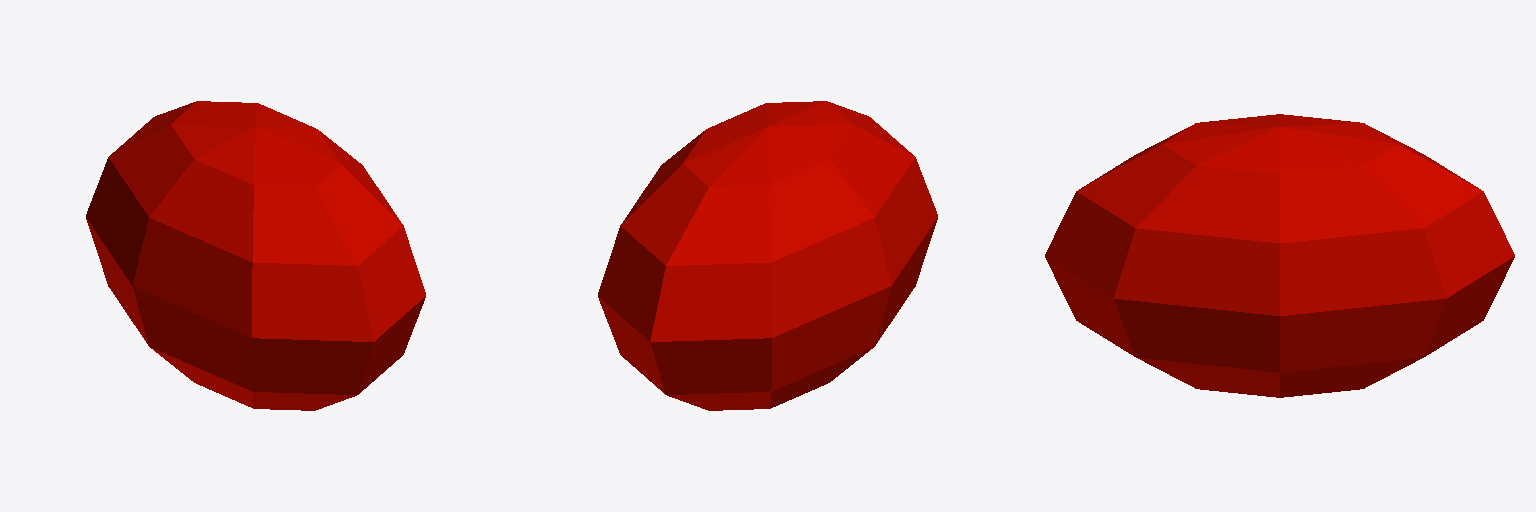
Rendered from option.obj.
3 renders of one model, left to right at view 1: azimuth 30°, elevation 25°; view 2: azimuth 150°, elevation 25°; view 3: azimuth 270°, elevation 25°, orthographic.
Visible parts, largest first — view 1: 球; view 2: 球; view 3: 球.
Boxes of the visible parts, box(x1,y1,x2,y2) form: 球: box(86, 101, 425, 410); 球: box(598, 101, 937, 410); 球: box(1045, 114, 1514, 397).
Bounding box in the file's own units: 4.56 × 4.56 × 7.53.